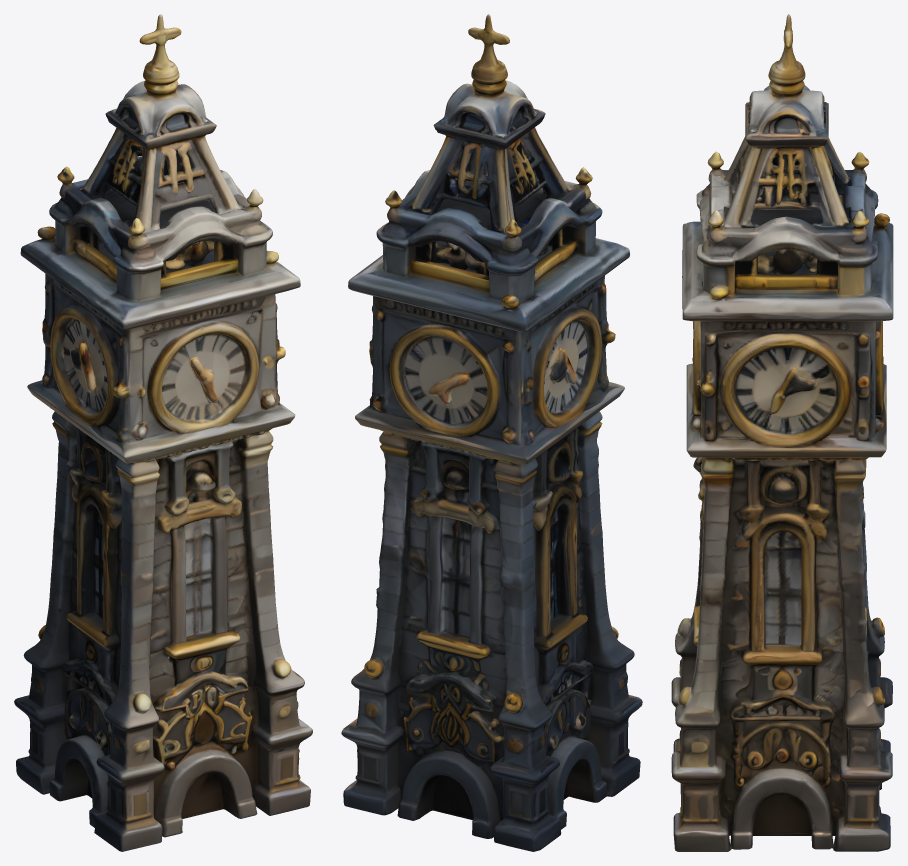
Rendered from building-clocktower-grand.glb.
3 views of the same model, side by side, from view 1: azimuth 30°, elevation 25°; view 2: azimuth 150°, elevation 25°; view 3: azimuth 270°, elevation 25° (orthographic). The views are drawn at different scales.
Visible parts, largest first — view 1: tripo_node_00e7cff2-e3e2-4d7d-ad7f-8656917c5cff; view 2: tripo_node_00e7cff2-e3e2-4d7d-ad7f-8656917c5cff; view 3: tripo_node_00e7cff2-e3e2-4d7d-ad7f-8656917c5cff.
Part boxes in pixels (bbox=[...]): tripo_node_00e7cff2-e3e2-4d7d-ad7f-8656917c5cff: bbox=[14, 14, 312, 851]; tripo_node_00e7cff2-e3e2-4d7d-ad7f-8656917c5cff: bbox=[341, 14, 642, 851]; tripo_node_00e7cff2-e3e2-4d7d-ad7f-8656917c5cff: bbox=[671, 14, 893, 851].
Size of the model in its own units: 5.8 by 22 by 5.58.
1 material, 1 textured.
